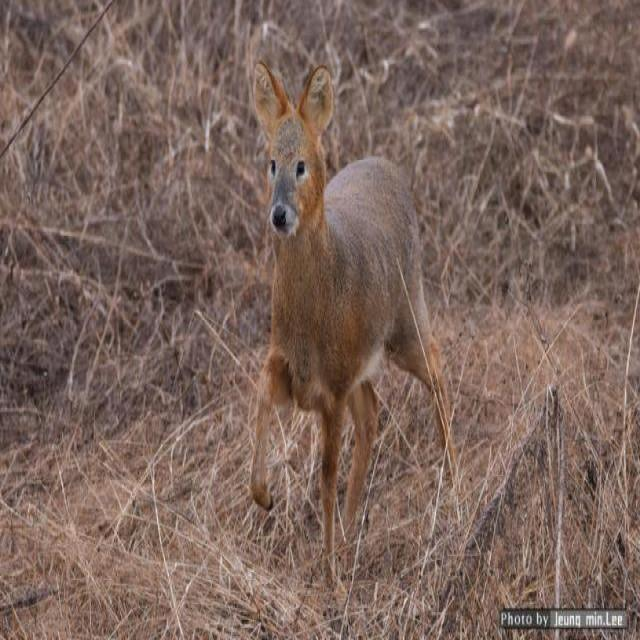deer: (222, 55, 469, 596)
